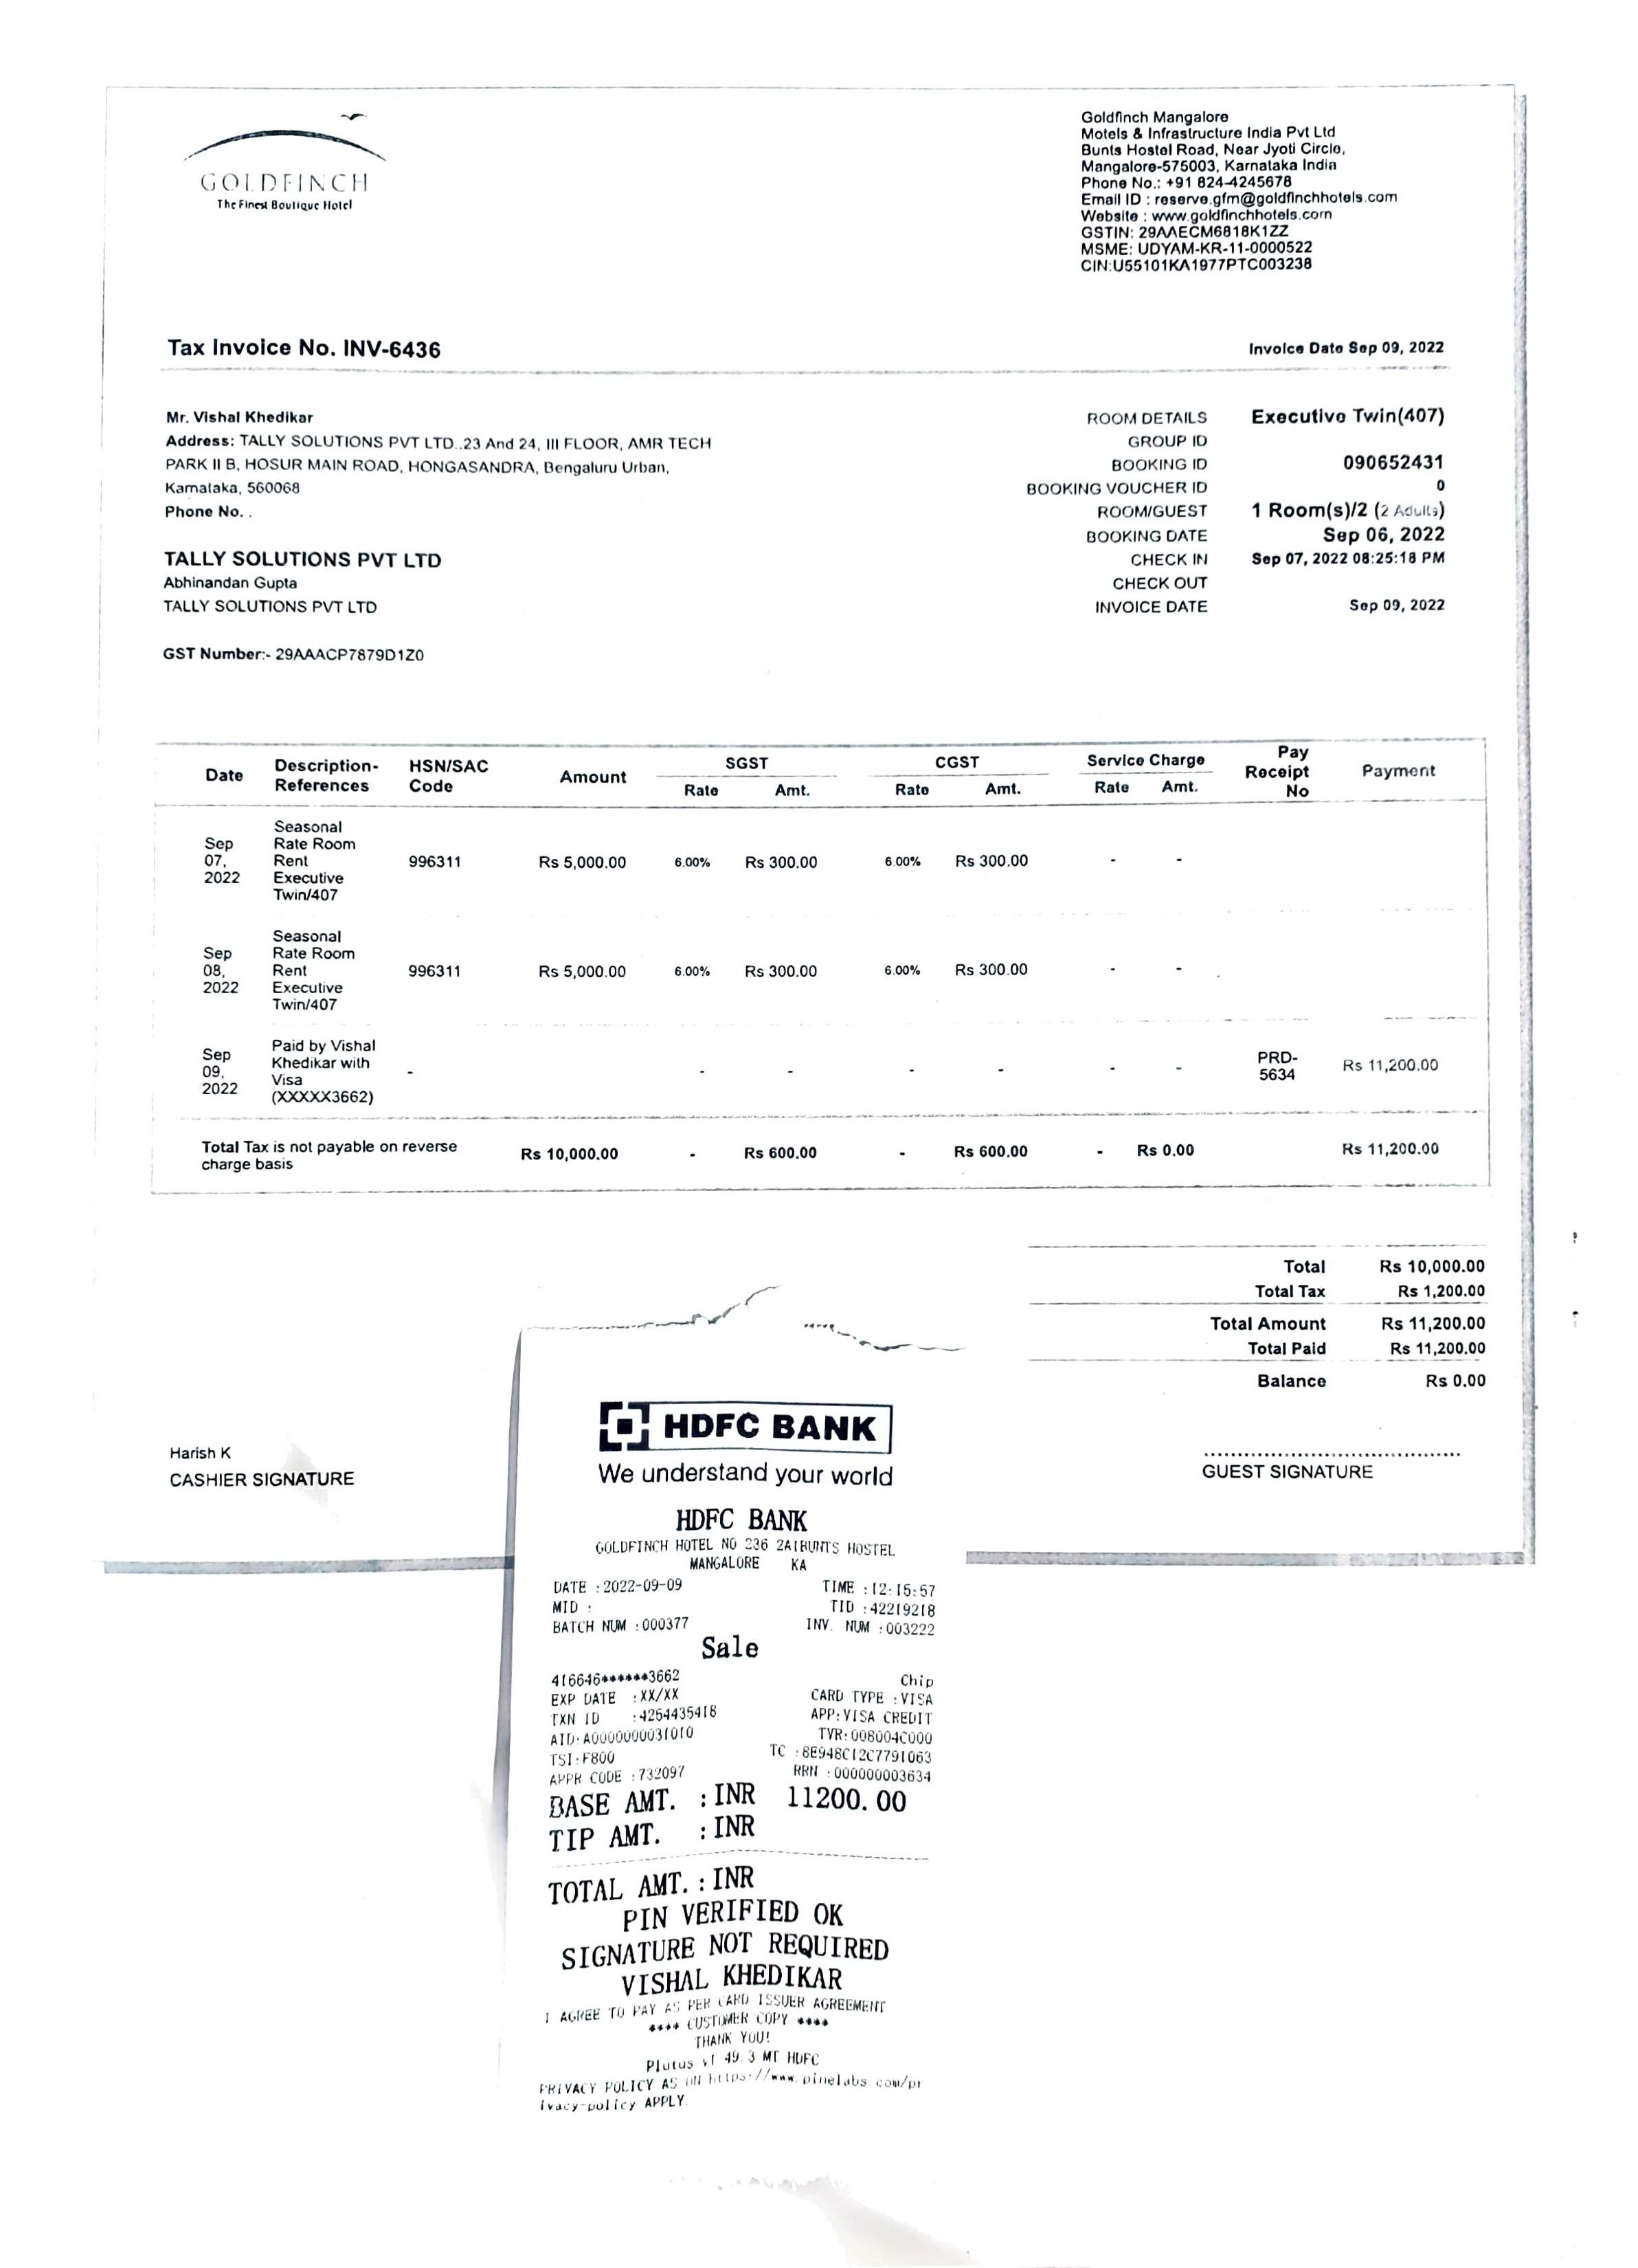InvoiceDate: (1344, 592, 1448, 622)
InvoiceNumber: (1335, 449, 1451, 474)
TotalAmount: (1374, 1310, 1492, 1335)
